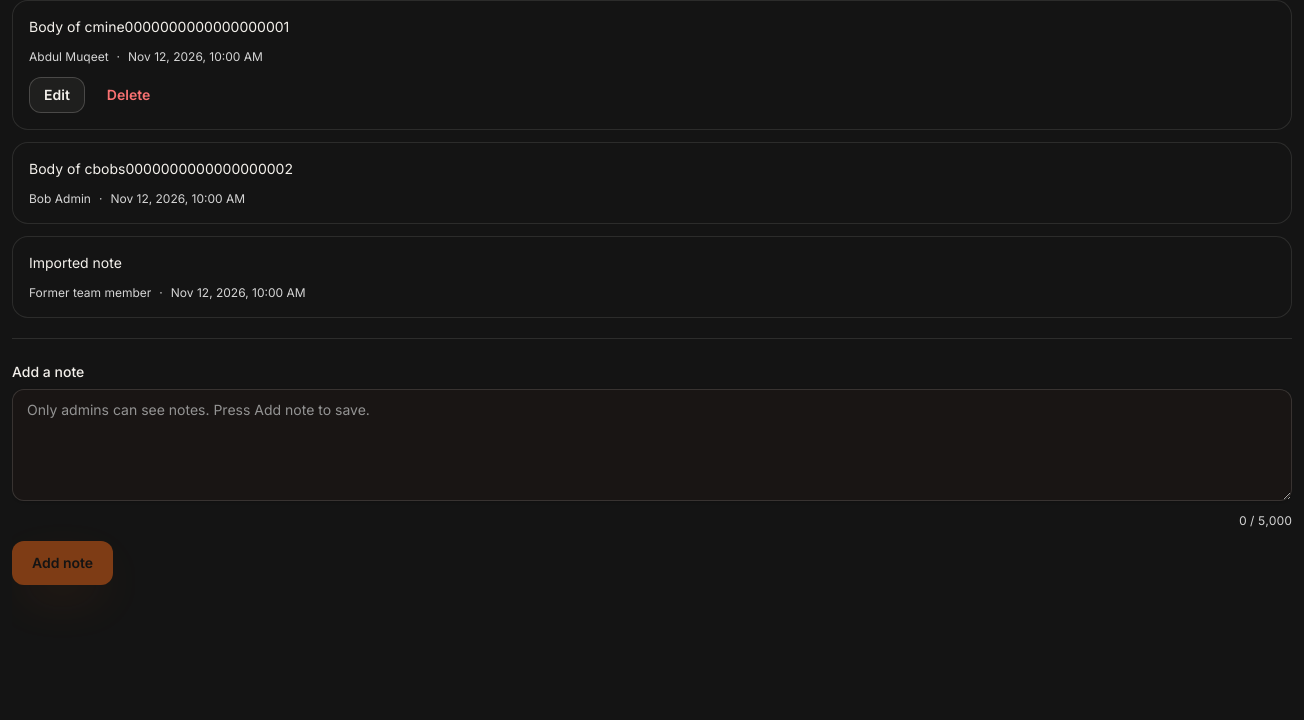
Test case: LeadNotesPanel: editing a note › saves with the version it loaded, shows the new text and an edited marker, and toasts
Click the button with aria-label "Edit note 1" at (57, 95), box x1=29 y1=77 x2=85 y2=113
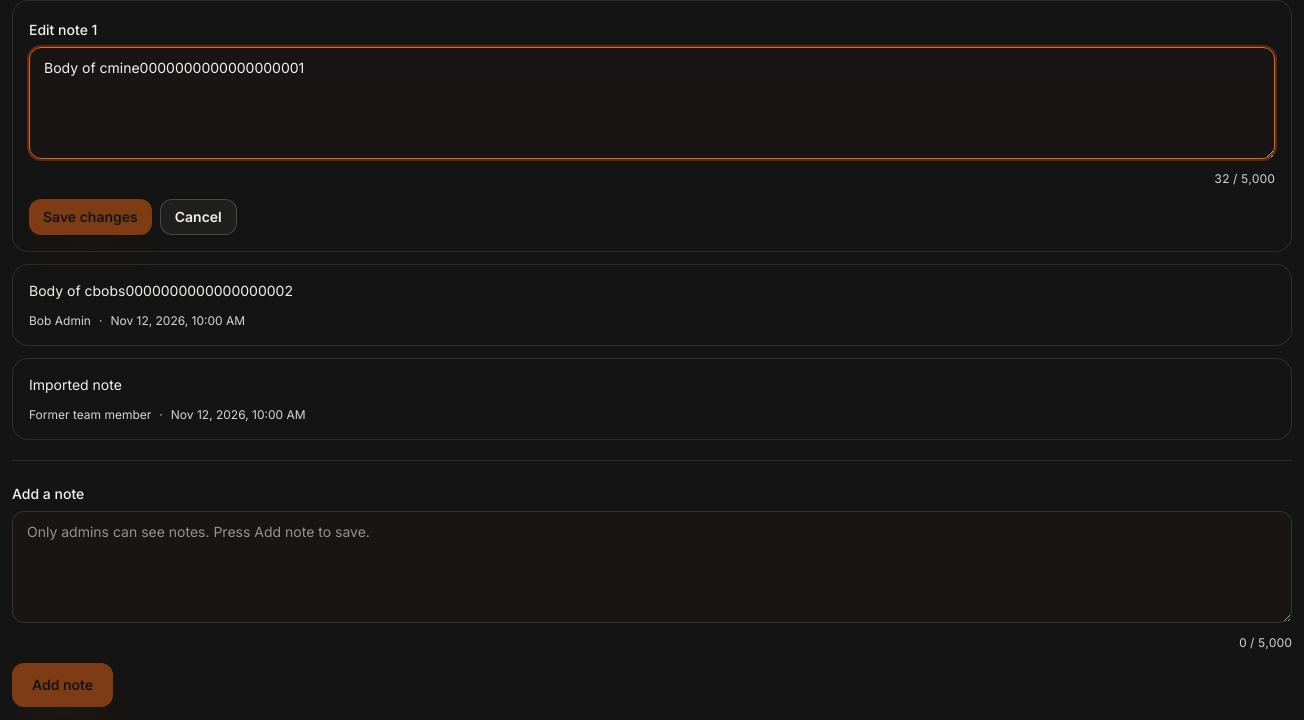
Replace the text in the text box labelled "Edit note 1" with "Rewritten text" at (652, 103), box x1=29 y1=47 x2=1275 y2=159
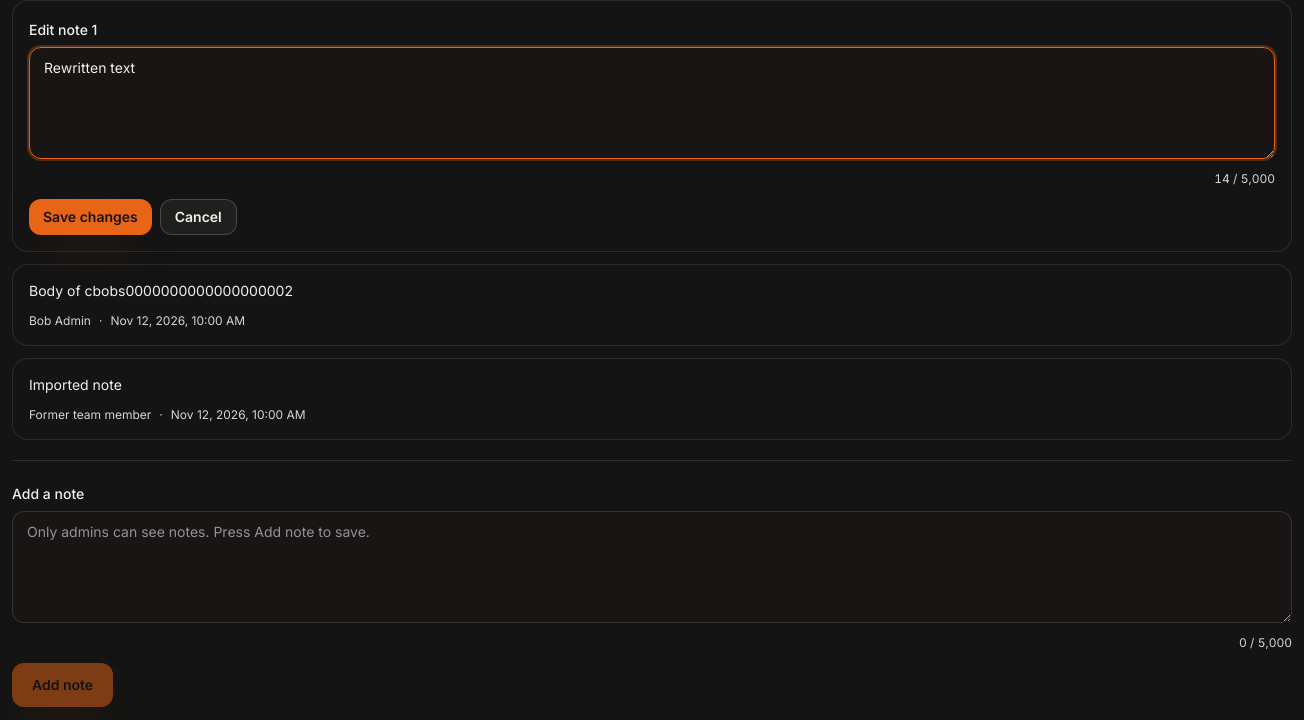
Click the button "Save changes" at (90, 217), box x1=29 y1=199 x2=152 y2=235
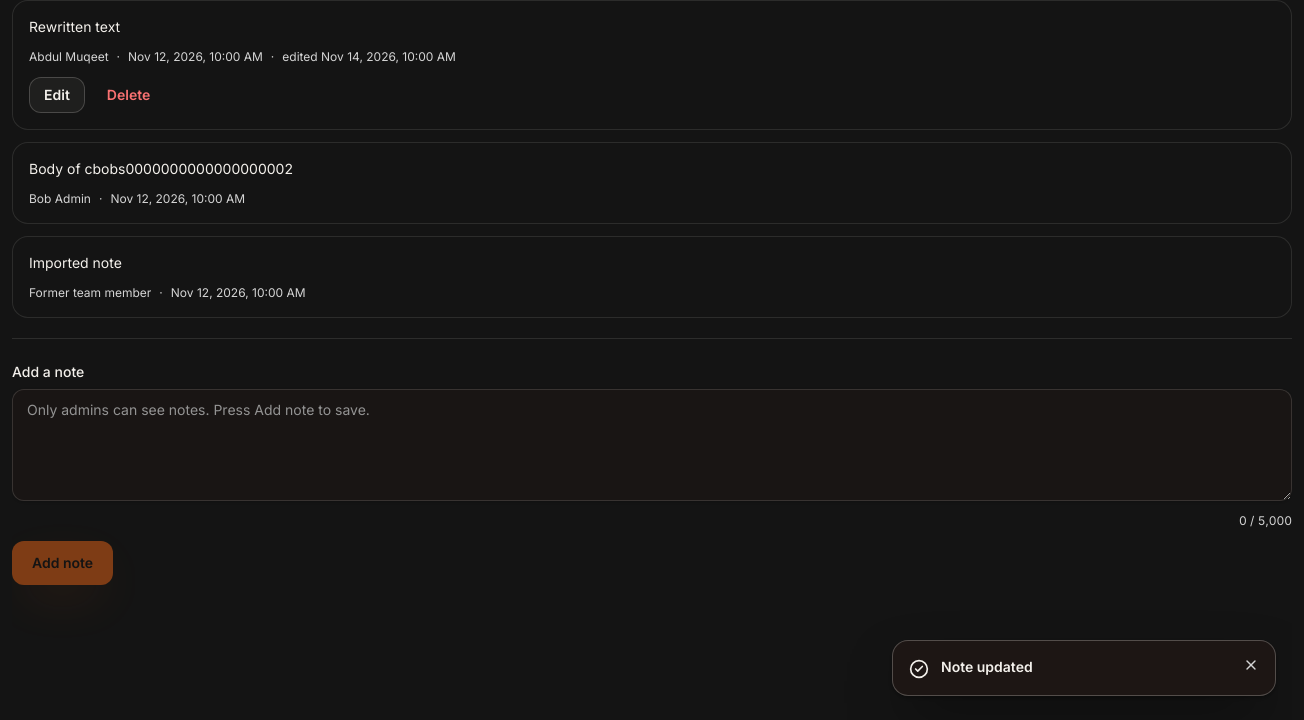
Expected: the text "Rewritten text" is shown, x1=29 y1=18 x2=120 y2=35
Expected: the list item that starts with "Rewritten text" shows "edited", x1=282 y1=49 x2=321 y2=64
Expected: the text "Note updated" is shown, x1=941 y1=658 x2=1033 y2=675
